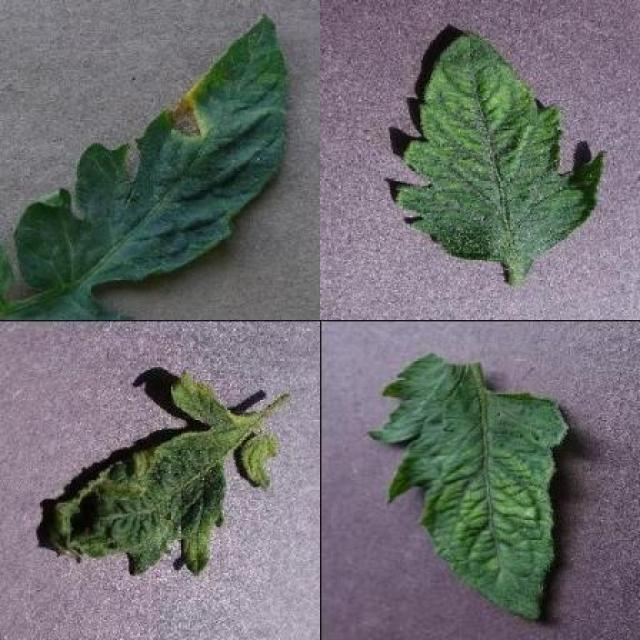Early Blight: (15, 16, 291, 287)
Mosaic Virus: (362, 348, 568, 622), (393, 31, 611, 260), (46, 362, 280, 575)
